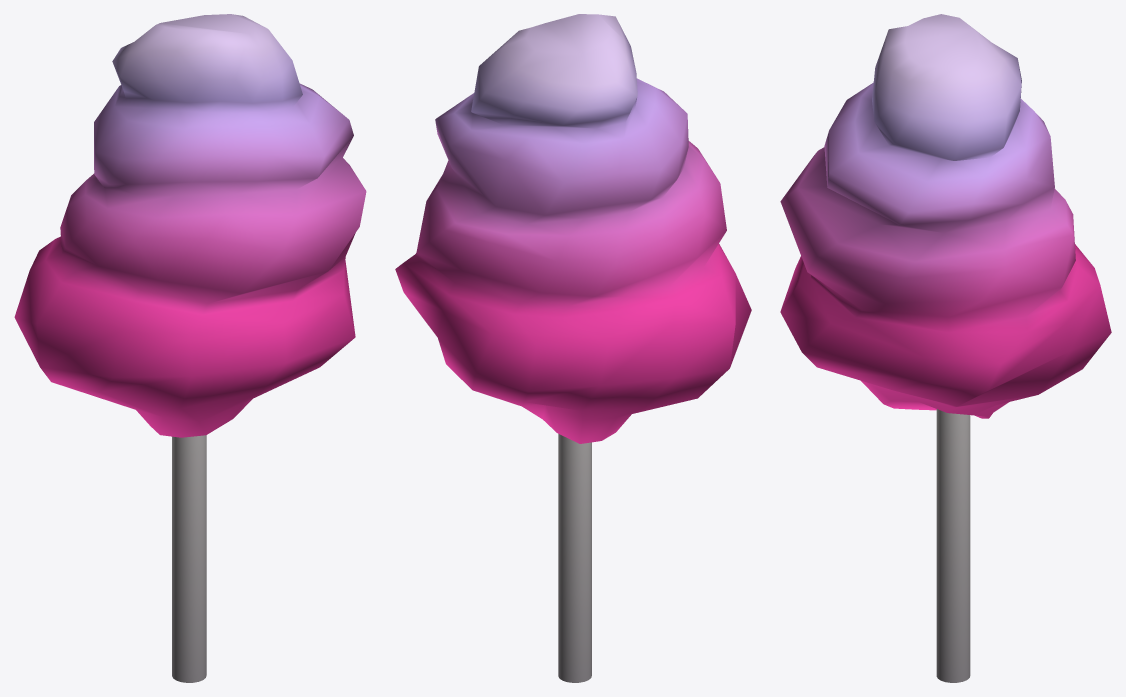
File: Cotton_Candy_Tree_02.fbx
The picture shows the model from 3 angles, left to right: view 1: azimuth 30°, elevation 25°; view 2: azimuth 150°, elevation 25°; view 3: azimuth 270°, elevation 25°; orthographic projection. The views are drawn at different scales.
Visible parts, largest first — view 1: Cotton_Candy_Tree_02; view 2: Cotton_Candy_Tree_02; view 3: Cotton_Candy_Tree_02.
Boxes of the visible parts, box(x1,y1,x2,y2) form: Cotton_Candy_Tree_02: box(14, 14, 366, 682); Cotton_Candy_Tree_02: box(395, 14, 751, 682); Cotton_Candy_Tree_02: box(780, 14, 1111, 682).
Size of the model in its own units: 278 by 551 by 255.
